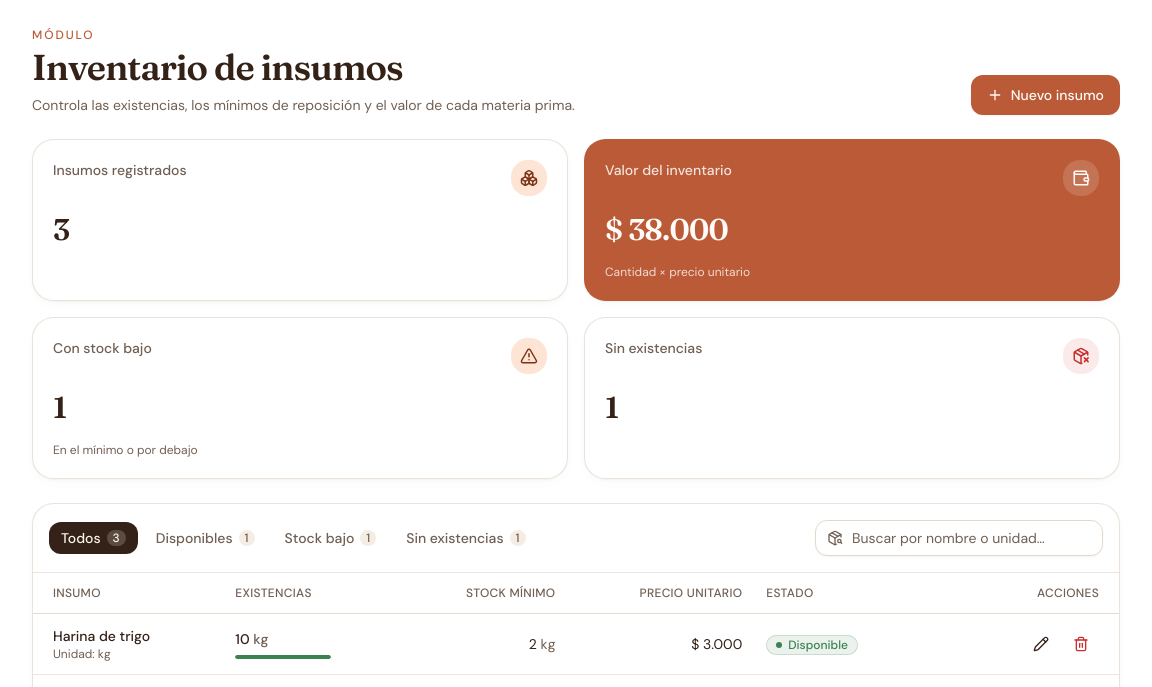
Test: Filtros y búsqueda › busca por nombre sin distinguir tildes ni mayúsculas, y por unidad
expect the cell "Harina de trigo Unidad: kg" is shown: met, box left=33, top=613, right=223, bottom=674
Type "AZUCAR" into the search field named "Buscar insumo" at (959, 538), box left=815, top=520, right=1103, bottom=556
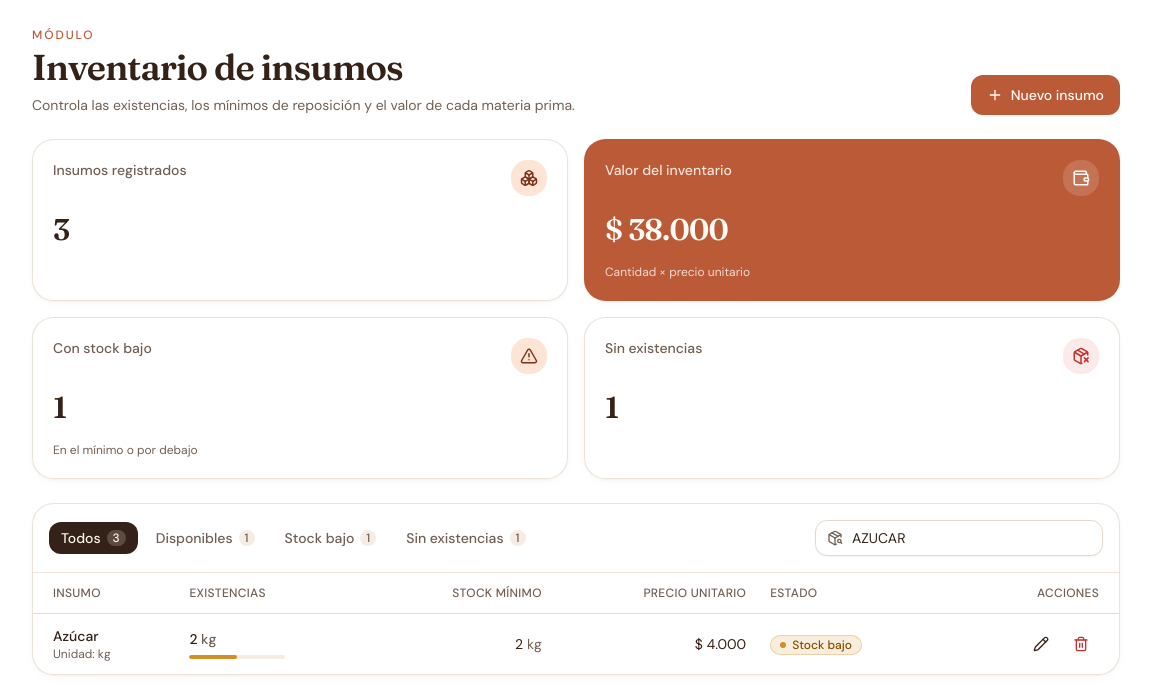
expect the cell "Azúcar Unidad: kg" is shown: met, box left=33, top=613, right=177, bottom=674
expect the text "Harina de trigo" is gone: met
Replace the text in the search field named "Buscar insumo" with "g" at (959, 538), box left=815, top=520, right=1103, bottom=556
(page scrolled)
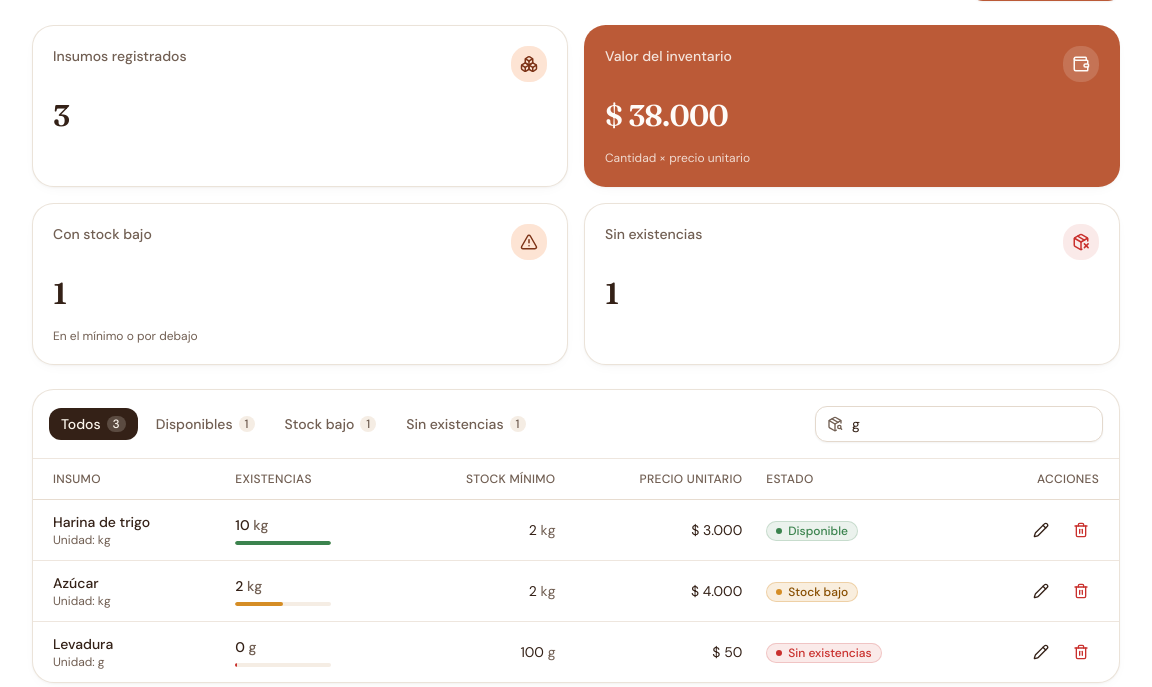
expect the cell "Levadura Unidad: g" is shown: met, box left=33, top=621, right=223, bottom=682
